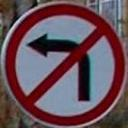preferencia: (0, 1, 128, 128)
